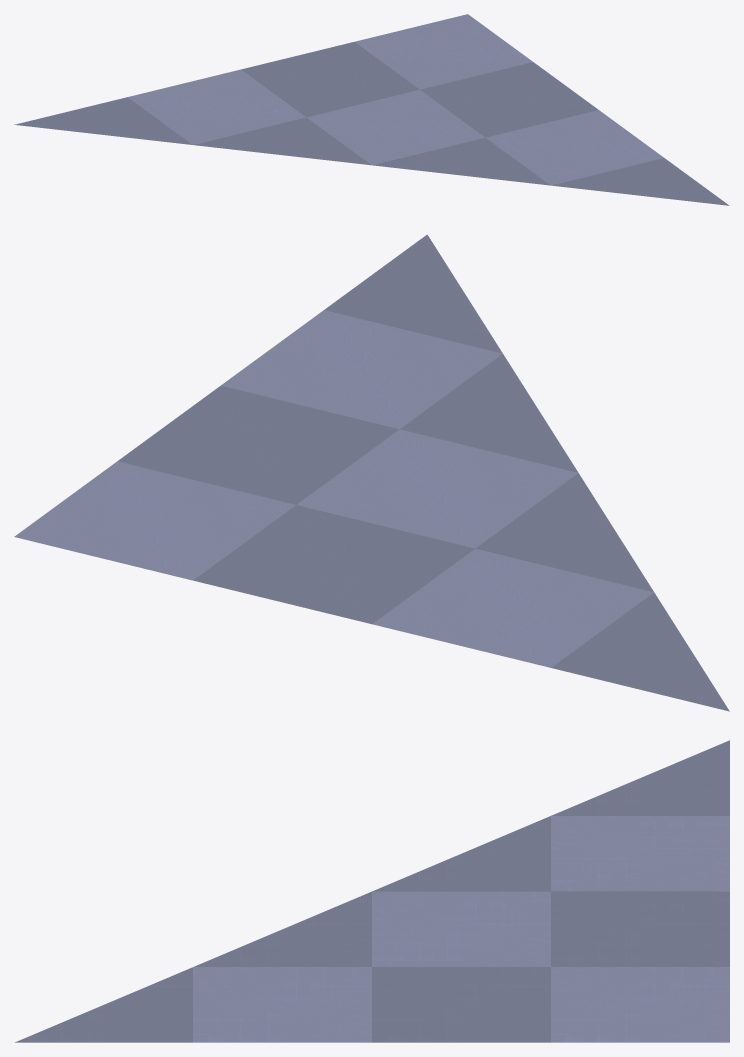
File: floor-small-diagonal.glb
3 renders of one model, top to bottom at view 1: azimuth 30°, elevation 25°; view 2: azimuth 150°, elevation 25°; view 3: azimuth 270°, elevation 25°, orthographic. The views are drawn at different scales.
Visible parts, largest first — view 1: floor-small-diagonal; view 2: floor-small-diagonal; view 3: floor-small-diagonal.
Boxes of the visible parts, x1,y1,x2,y2 form: floor-small-diagonal: (14, 14, 729, 205); floor-small-diagonal: (14, 234, 729, 711); floor-small-diagonal: (15, 740, 729, 1042).
Bounding box in the file's own units: 1 × 0 × 1.
1 material, 1 textured.
